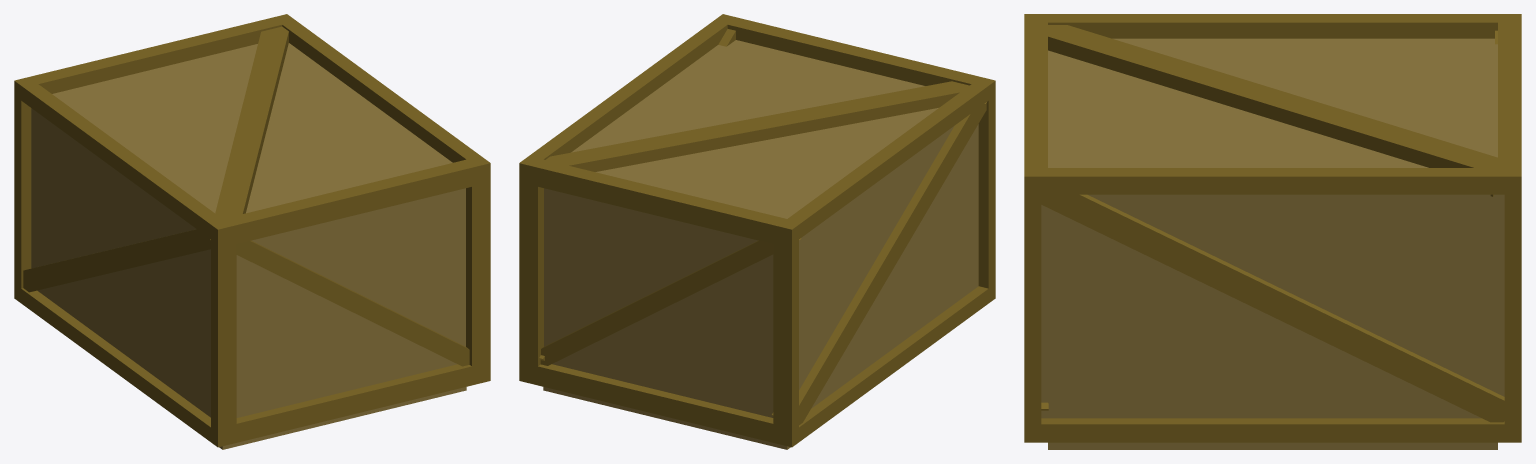
The picture shows the model from 3 angles, left to right: view 1: azimuth 30°, elevation 25°; view 2: azimuth 150°, elevation 25°; view 3: azimuth 270°, elevation 25°; orthographic projection. The views are drawn at different scales.
Visible parts, largest first — view 1: Cube.007; view 2: Cube.007; view 3: Cube.007.
Part boxes in pixels (<box>): Cube.007: <box>14,14,490,449</box>; Cube.007: <box>519,14,995,449</box>; Cube.007: <box>1024,14,1521,449</box>.
Size of the model in its own units: 155 by 125 by 200.
